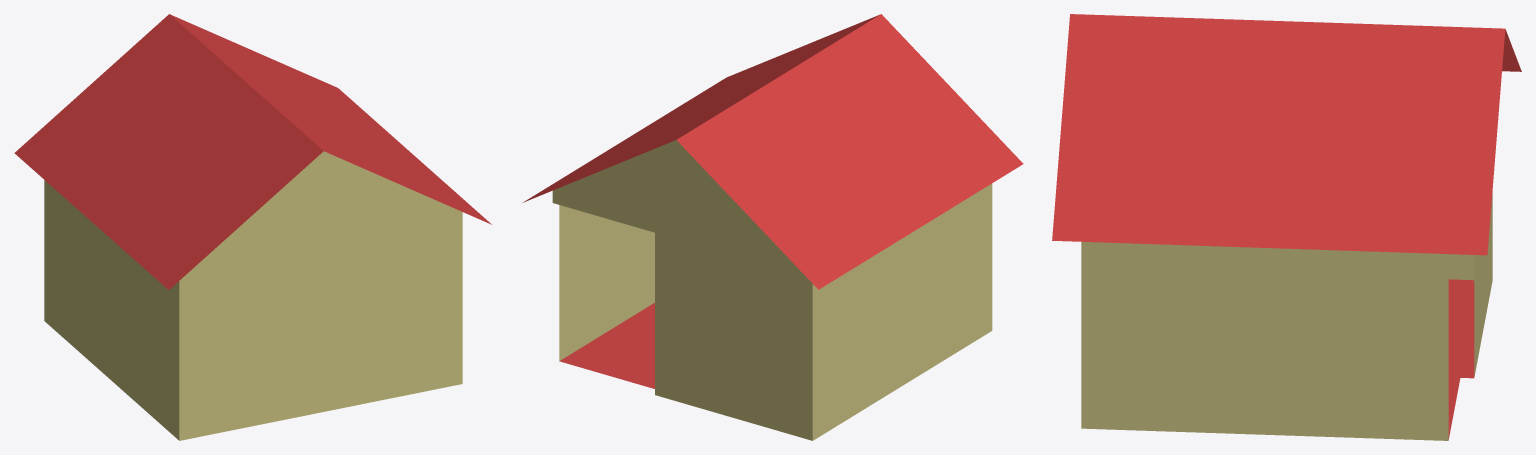
3 renders of one model, left to right at view 1: azimuth 30°, elevation 25°; view 2: azimuth 150°, elevation 25°; view 3: azimuth 270°, elevation 25°, orthographic. The views are drawn at different scales.
Size of the model in its own units: 12.91 by 12.93 by 10.01.
